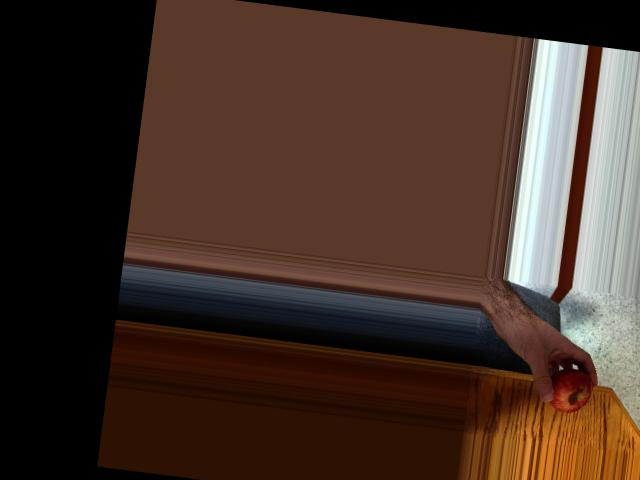apple: (540, 363, 594, 415)
